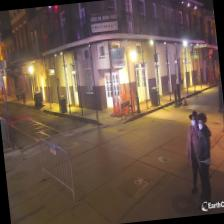person: (194, 112, 217, 208), (182, 110, 206, 197)
